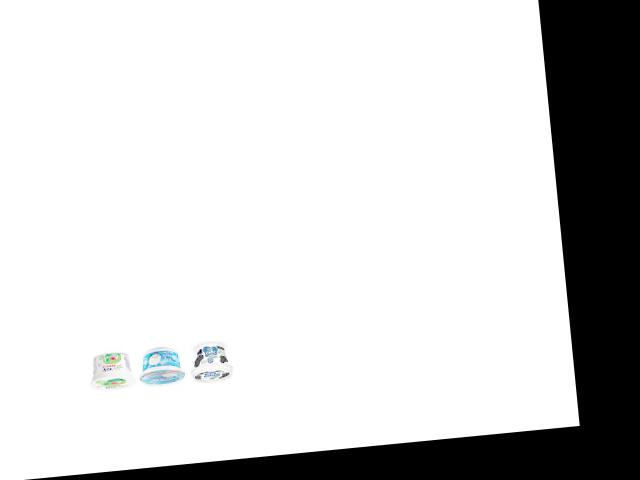cotage: (84, 347, 138, 395)
